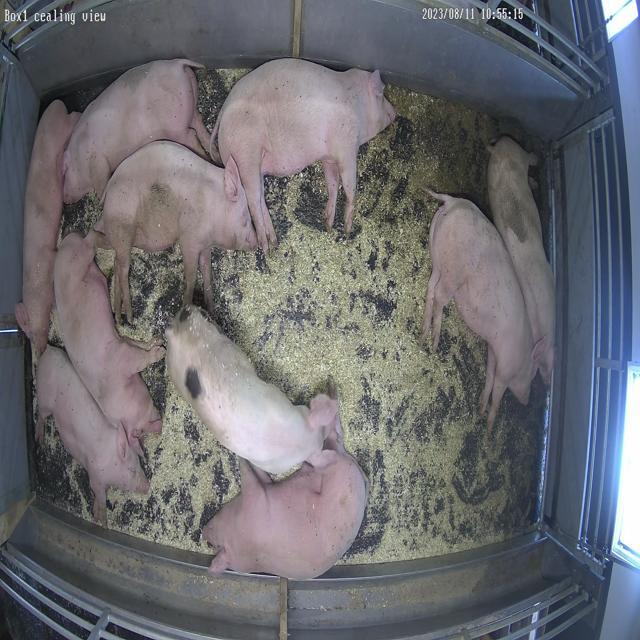Dirt: (406, 305, 547, 554), (333, 84, 538, 248)
Pig: (215, 58, 396, 250), (95, 141, 257, 320), (166, 306, 337, 474), (424, 191, 537, 430), (53, 233, 165, 452), (203, 451, 368, 580), (63, 58, 210, 202), (35, 347, 149, 526), (489, 136, 556, 384), (15, 100, 80, 354)
